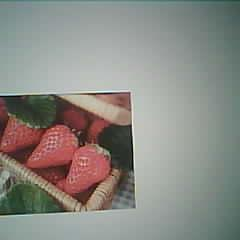straw-ripe: (65, 145, 110, 192), (28, 126, 77, 167)
